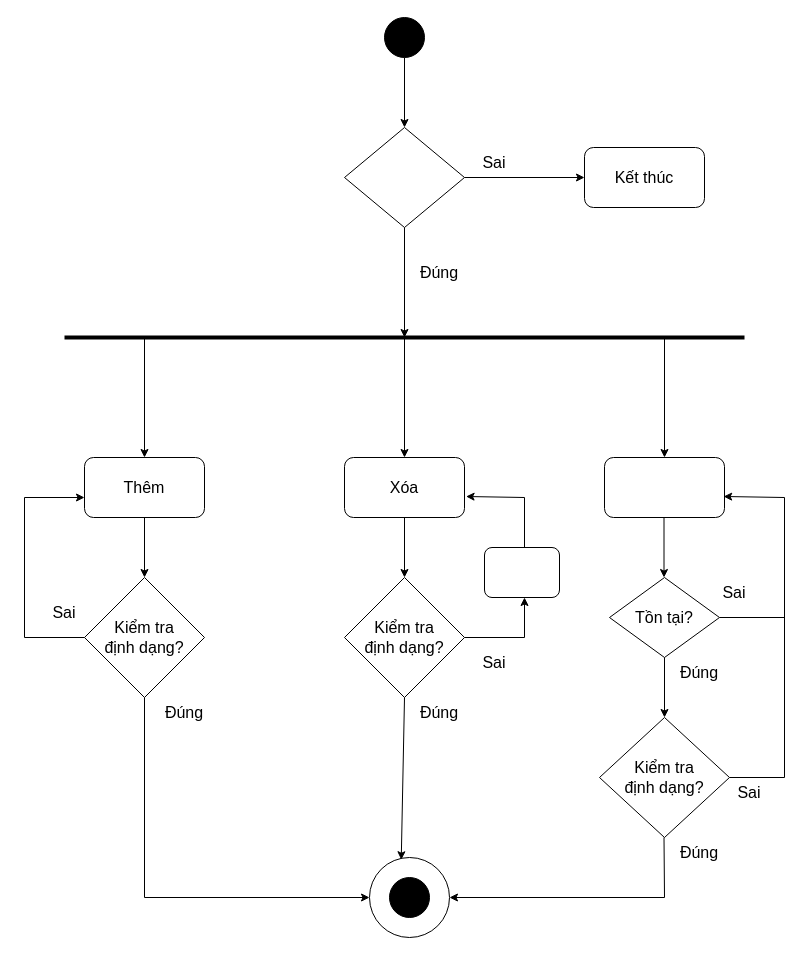
Image size: 810x955. Some labels were removed from this diagram. The shapes that lost their labels are listed below. From the top down, each one's centre as x and y in pixels, then its label:
point (404, 177): Kết nối?
point (664, 487): Sửa
point (522, 572): Báo lỗi
